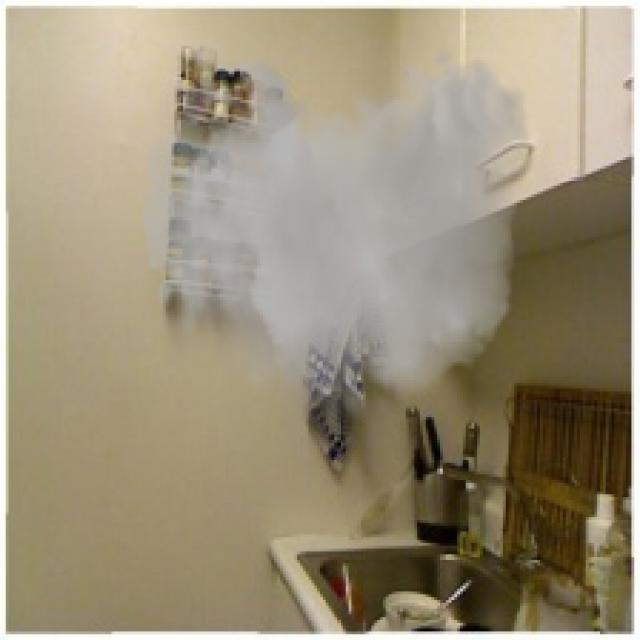Smoke: (143, 46, 532, 448)
